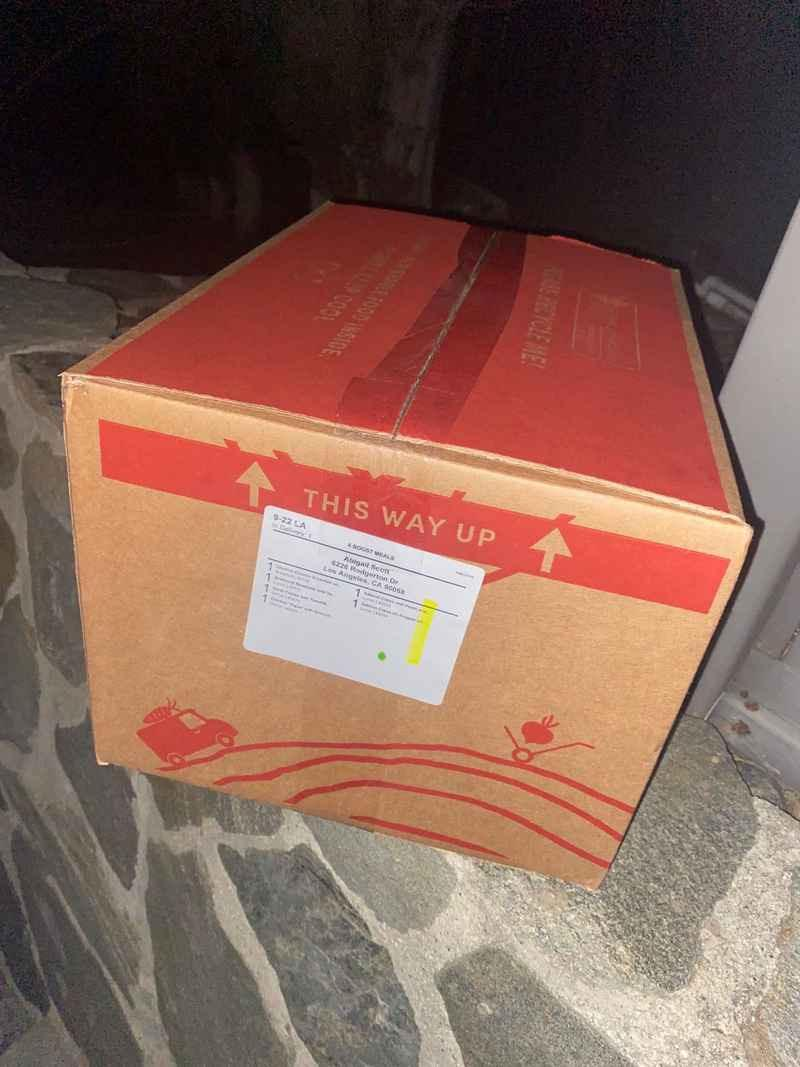package: (60, 203, 750, 886)
